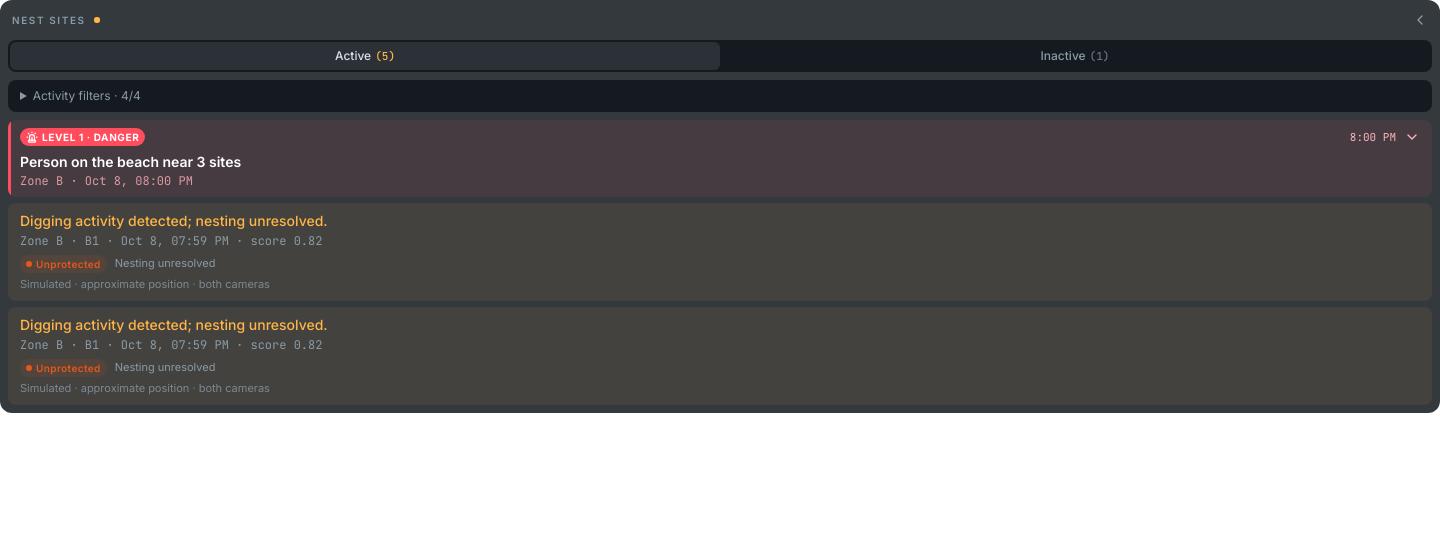
AlertsFeed dangers › keeps going after a failure and reports per-site results
Click the button "Person on the beach near 3 sites" at (83, 137), box x1=8 y1=120 x2=1432 y2=197
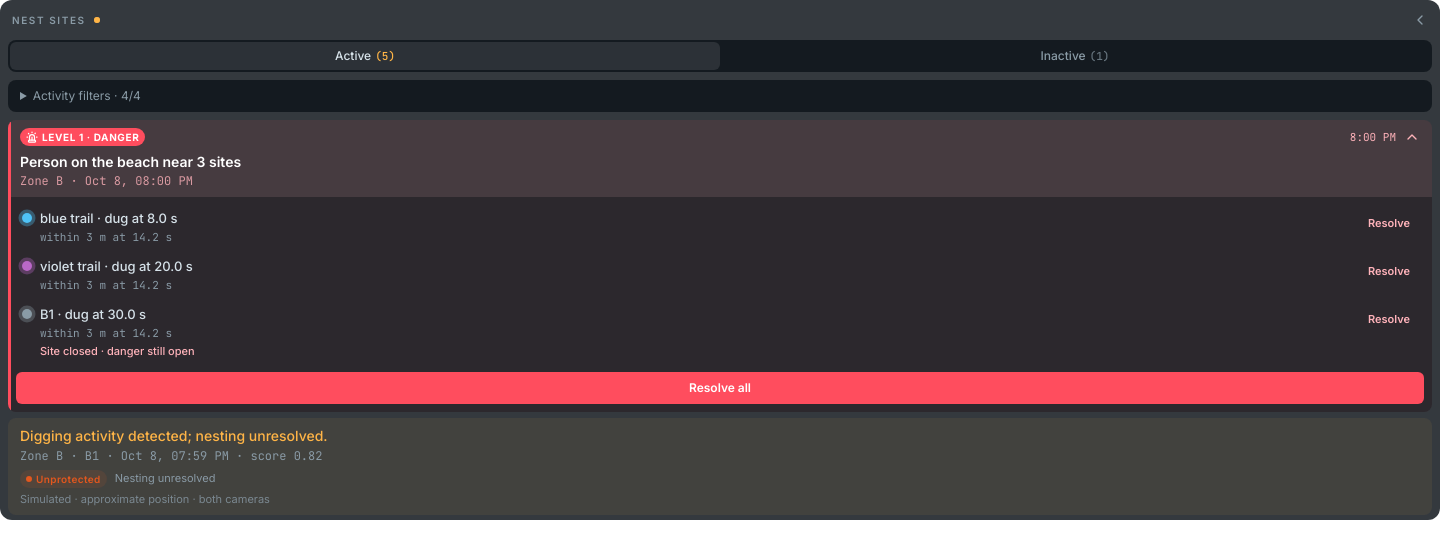
Click the button "Resolve all" at (720, 388), box x1=16 y1=372 x2=1424 y2=404
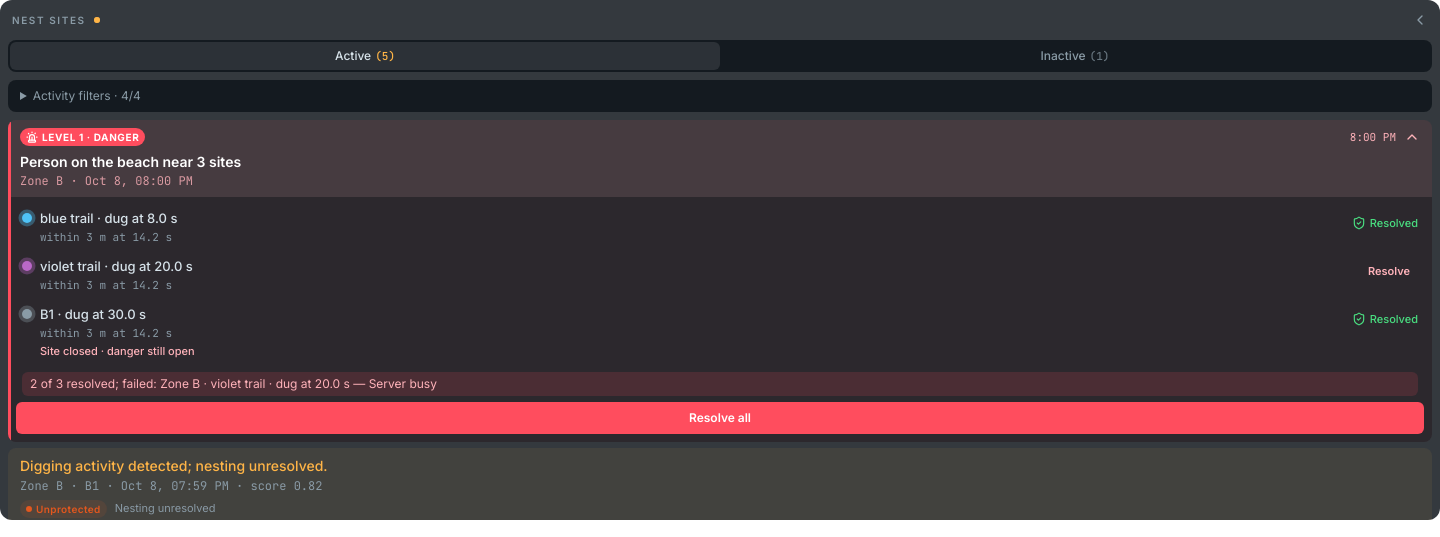
Check: the message reads "2 of 3 resolved; failed: Zone B · violet trail · dug at 20.0 s — Server busy", box x1=30 y1=376 x2=437 y2=391
Check: the number of buttons named "Resolve danger at " is 1, box x1=1360 y1=259 x2=1418 y2=283
